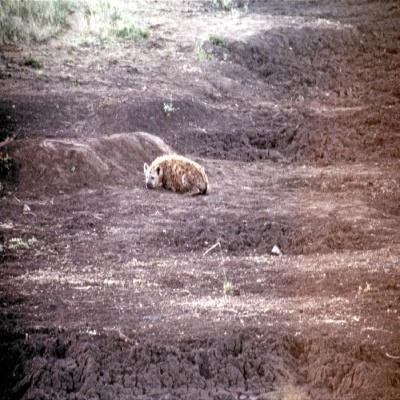hyenas: (130, 136, 218, 207)
